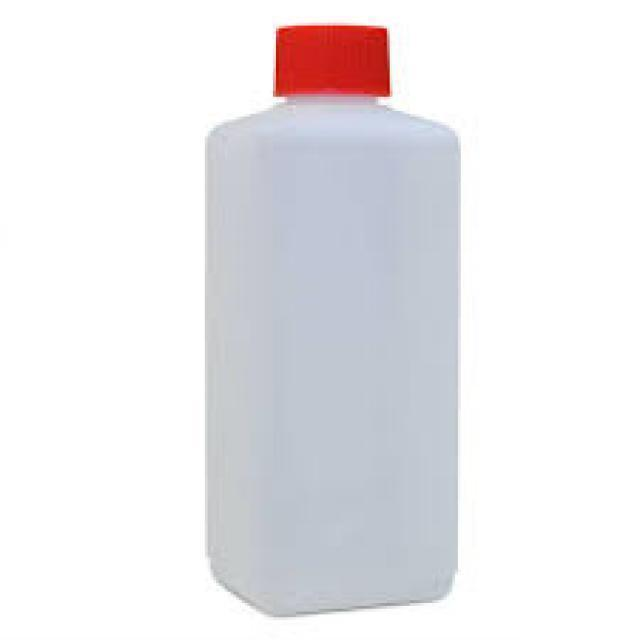Plastic: (205, 20, 460, 616)
